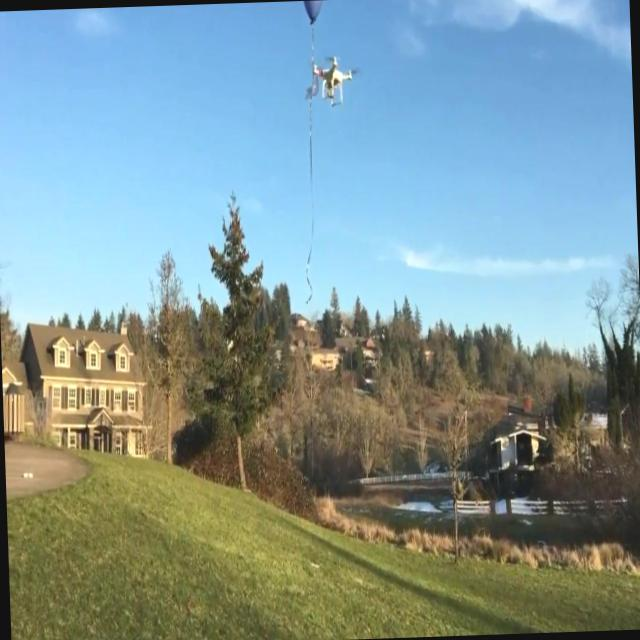drone: (312, 53, 356, 114)
